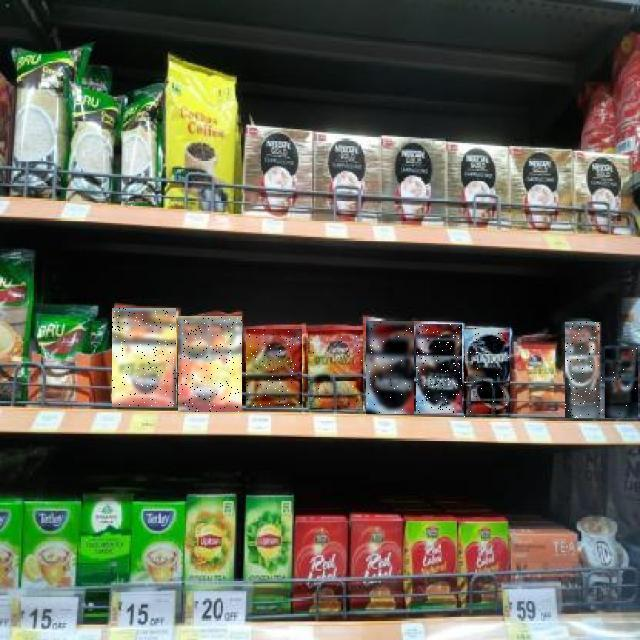Coffee: (112, 308, 176, 407), (178, 316, 242, 412), (366, 321, 414, 414), (247, 329, 303, 408), (308, 330, 363, 410), (416, 324, 462, 413), (464, 328, 510, 417), (566, 322, 604, 418), (605, 347, 638, 419)
